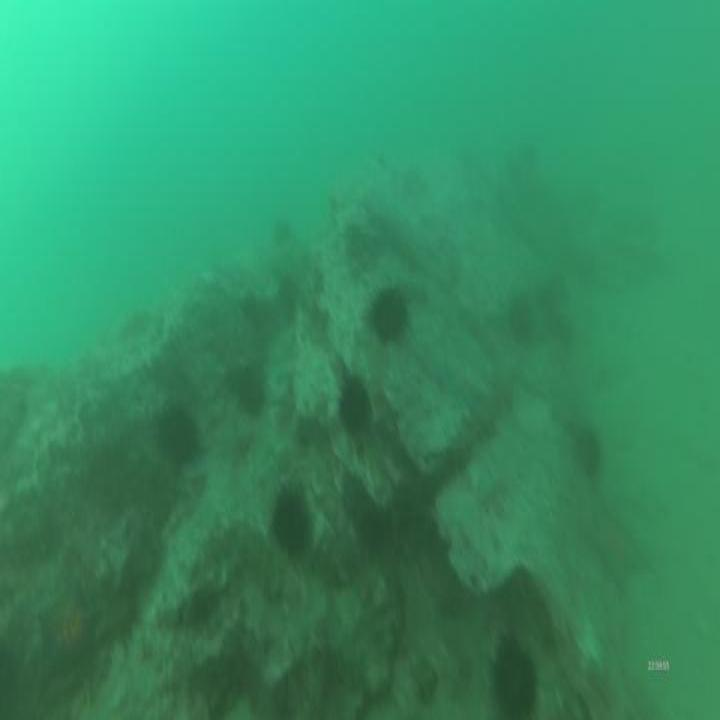echinus: (492, 647, 536, 718), (159, 409, 196, 473), (274, 489, 308, 555), (375, 286, 406, 347), (573, 425, 600, 480), (341, 375, 365, 432), (508, 294, 534, 342), (237, 364, 262, 410)
starfish: (39, 588, 95, 674)
